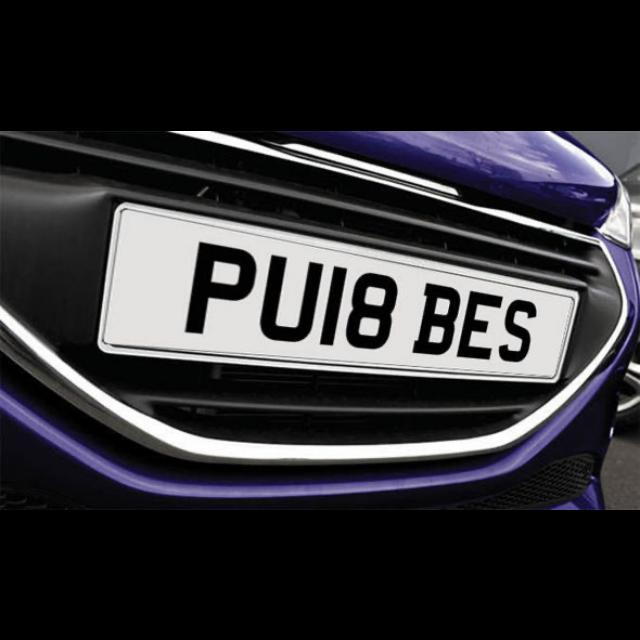carPlate: (97, 199, 577, 383)
